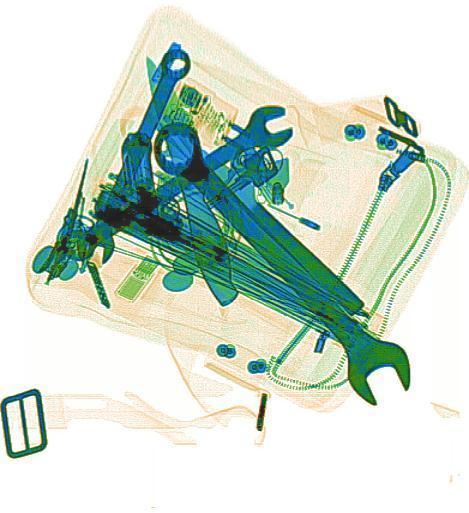Gun: (88, 125, 255, 269)
Knife: (154, 105, 371, 319), (135, 48, 247, 309)
Wrench: (137, 105, 428, 419), (49, 94, 298, 269), (73, 40, 194, 269)
